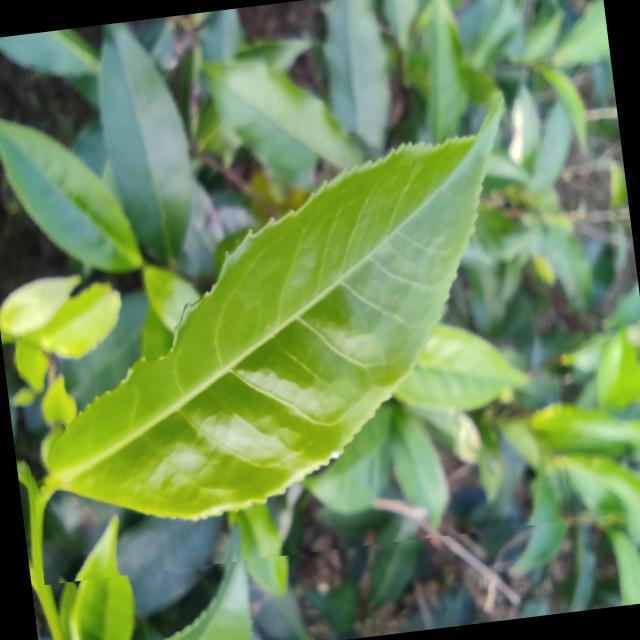Category B(2-4 days): (0, 75, 575, 585)
